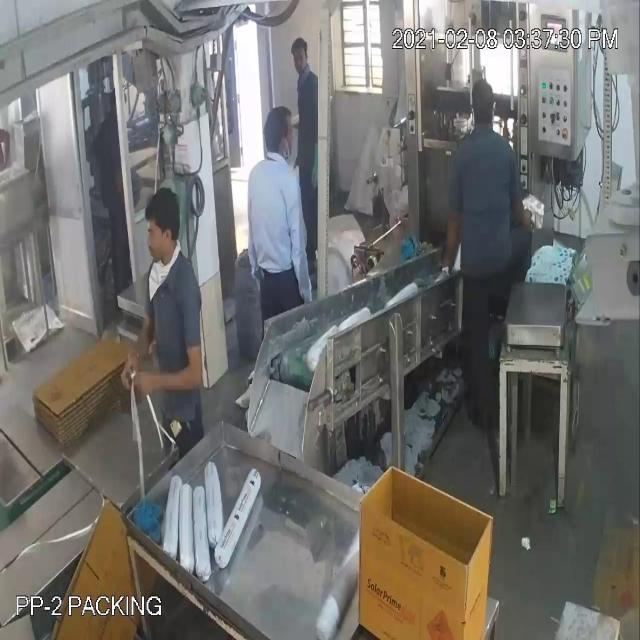No_Gloves: (126, 350, 214, 407)
